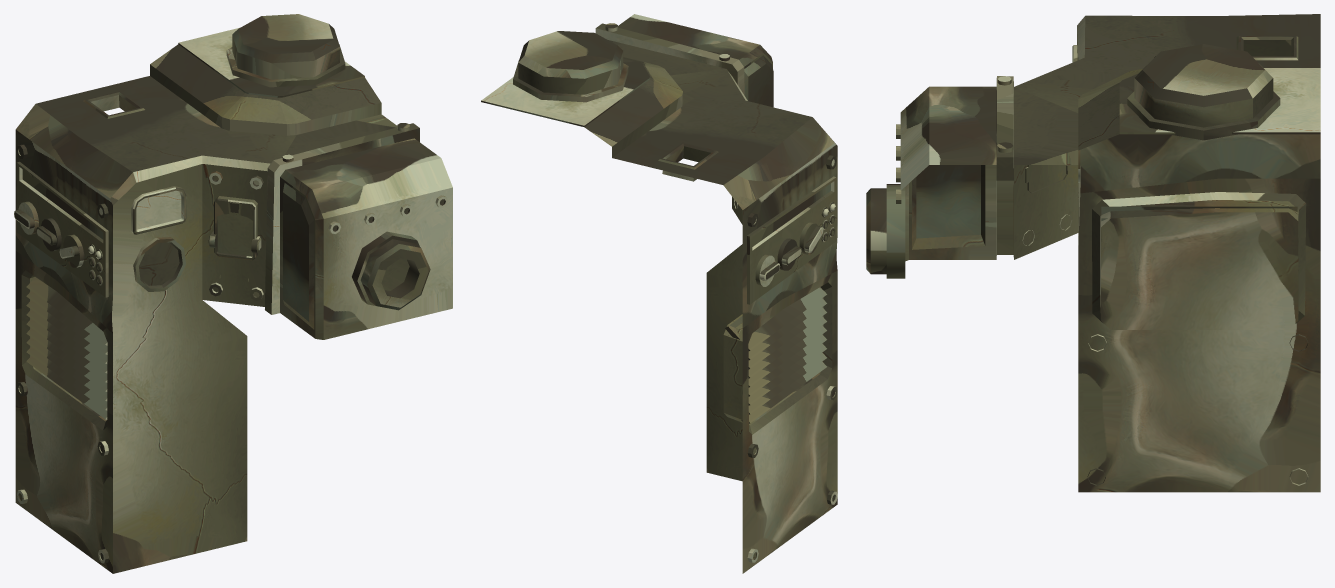
File: Управление.fbx
3 views of the same model, side by side, from view 1: azimuth 30°, elevation 25°; view 2: azimuth 150°, elevation 25°; view 3: azimuth 270°, elevation 25° (orthographic). The views are drawn at different scales.
Visible parts, largest first — view 1: Cube.255; view 2: Cube.255; view 3: Cube.255.
Part boxes in pixels (bbox=[...]): Cube.255: bbox=[14, 14, 452, 573]; Cube.255: bbox=[481, 14, 837, 573]; Cube.255: bbox=[866, 14, 1320, 492].
Bounding box in the file's own units: 333 × 364 × 494.
